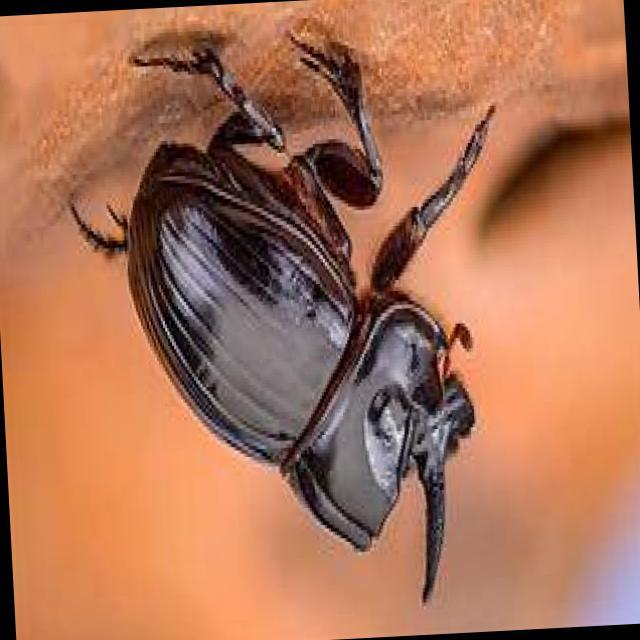Rhino-beetle: (38, 96, 550, 608)
